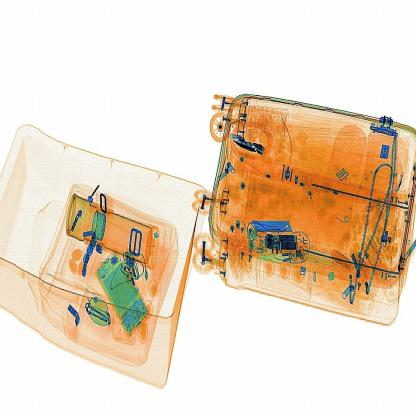pliers: (245, 210, 302, 239)
